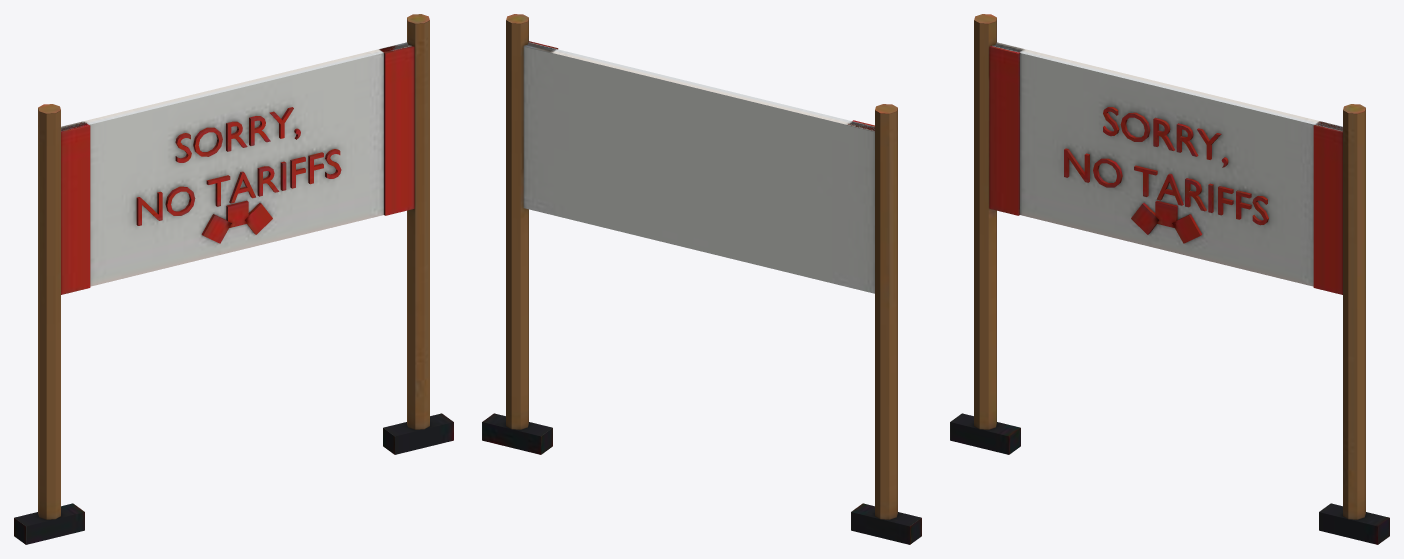
The model's file is pancarta_eh.glb.
3 renders of one model, left to right at view 1: azimuth 30°, elevation 25°; view 2: azimuth 150°, elevation 25°; view 3: azimuth 330°, elevation 25°, orthographic.
Visible parts, largest first — view 1: pancarta_eh; view 2: pancarta_eh; view 3: pancarta_eh.
Part boxes in pixels (x1,y1,x2,y2): pancarta_eh: (14, 14, 453, 544); pancarta_eh: (482, 14, 921, 544); pancarta_eh: (950, 14, 1389, 544).
Size of the model in its own units: 2.9 by 2.75 by 0.14.
1 material, 1 textured.
